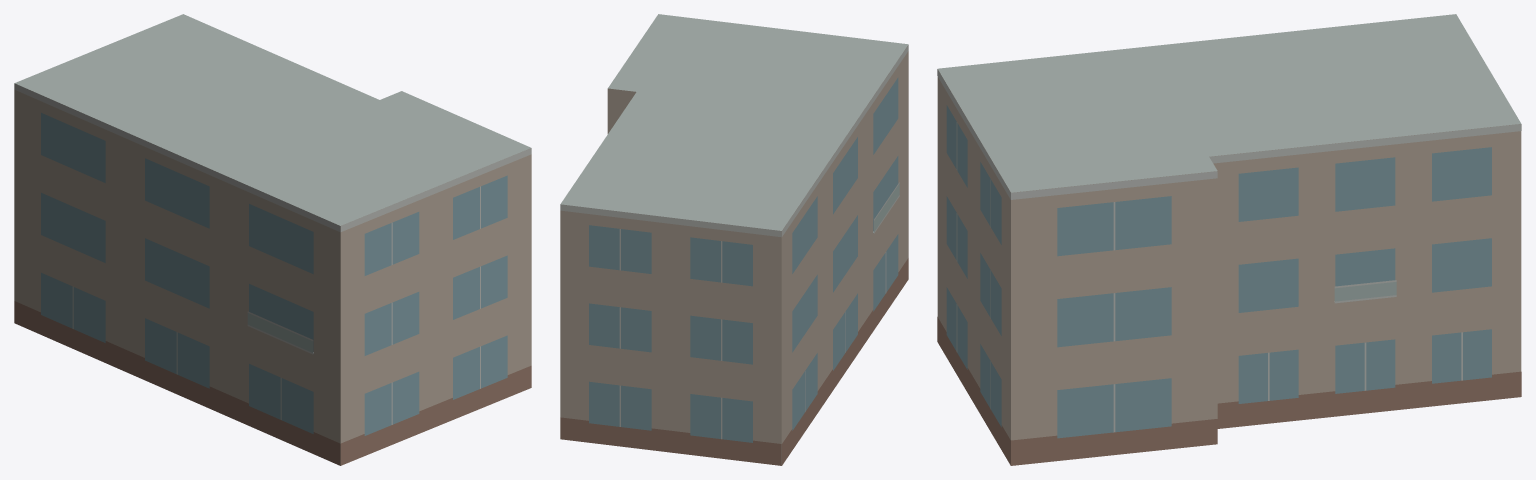
The model's file is survey-upis-32698345.glb.
3 views of the same model, side by side, from view 1: azimuth 30°, elevation 25°; view 2: azimuth 150°, elevation 25°; view 3: azimuth 270°, elevation 25° (orthographic). The views are drawn at different scales.
Visible parts, largest first — view 1: survey-upis-32698345.tmp; view 2: survey-upis-32698345.tmp; view 3: survey-upis-32698345.tmp.
Part boxes in pixels (x1,y1,x2,y2): survey-upis-32698345.tmp: (14, 14, 531, 465); survey-upis-32698345.tmp: (560, 14, 908, 465); survey-upis-32698345.tmp: (937, 14, 1521, 465).
Size of the model in its own units: 12.85 by 9.15 by 17.74.
